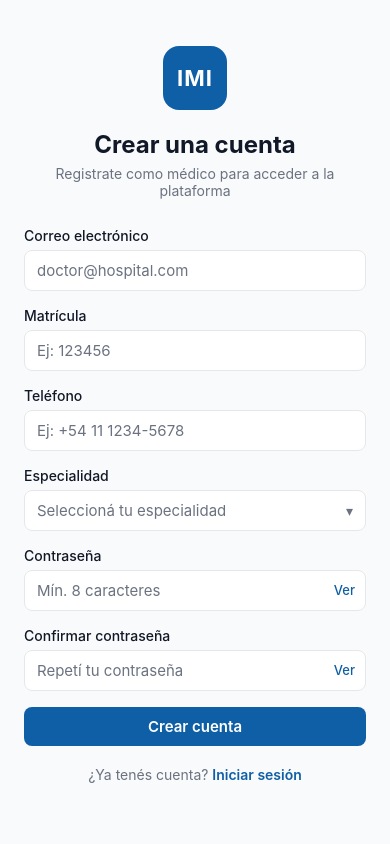
Test: SignupScreen › shows validation error for empty email
The image size is (390, 844).
Click the text "Crear cuenta" at (195, 726), box [148,716,242,736]
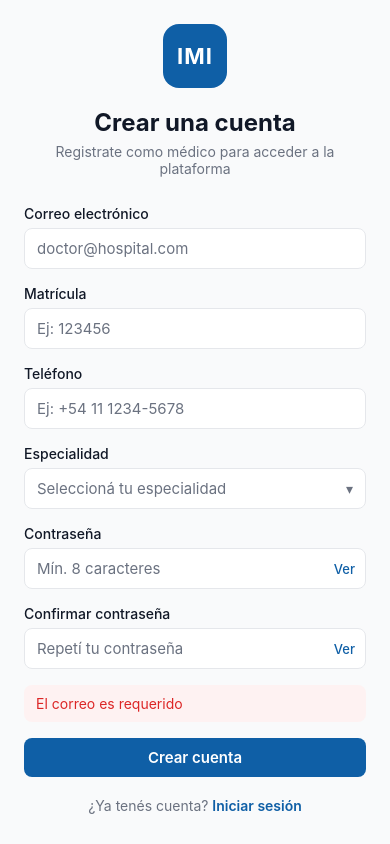
expect the text "El correo es requerido" is shown: met, box [36,695,183,712]
